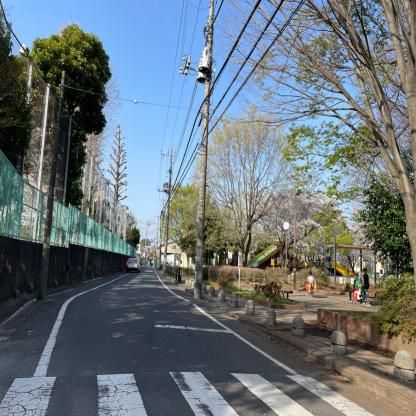Someiyoshino: (228, 176, 340, 258), (345, 202, 388, 266)
